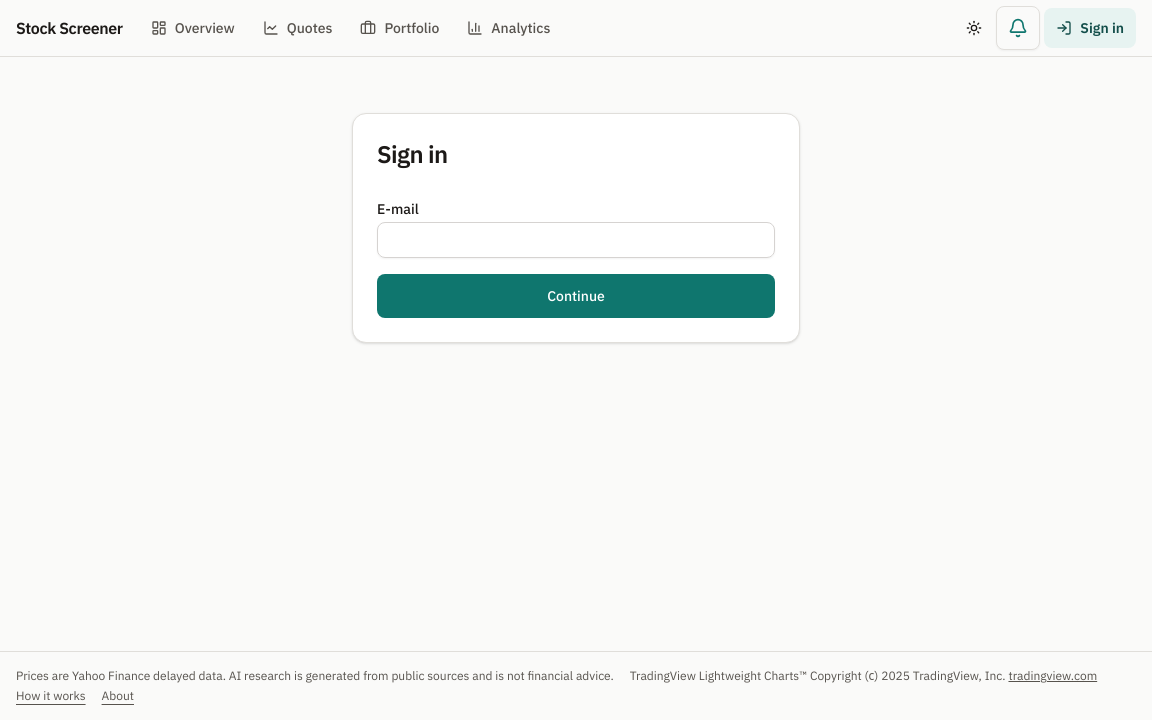
Test: sign-in, step 1 › shows the failure of the check and stays on step 1
In the field labelled "E-mail": (576, 240) [377,222,775,258], type "friend@example.com"
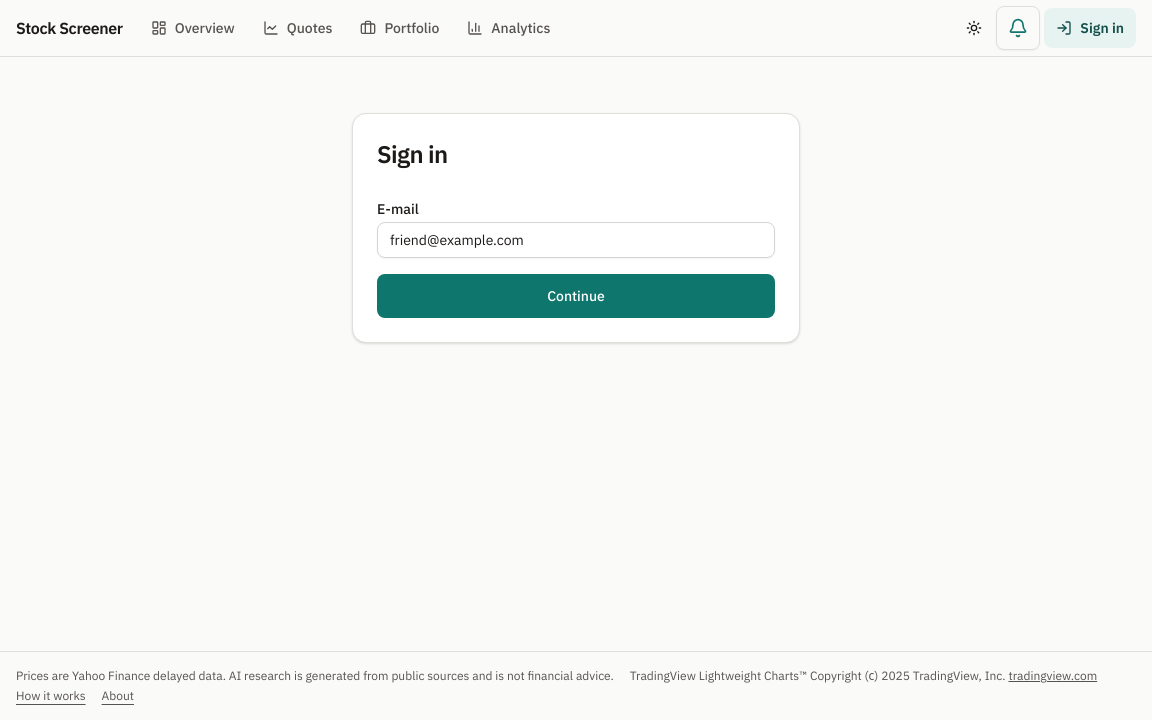
Submit the form "Continue", box [377,202,775,318]
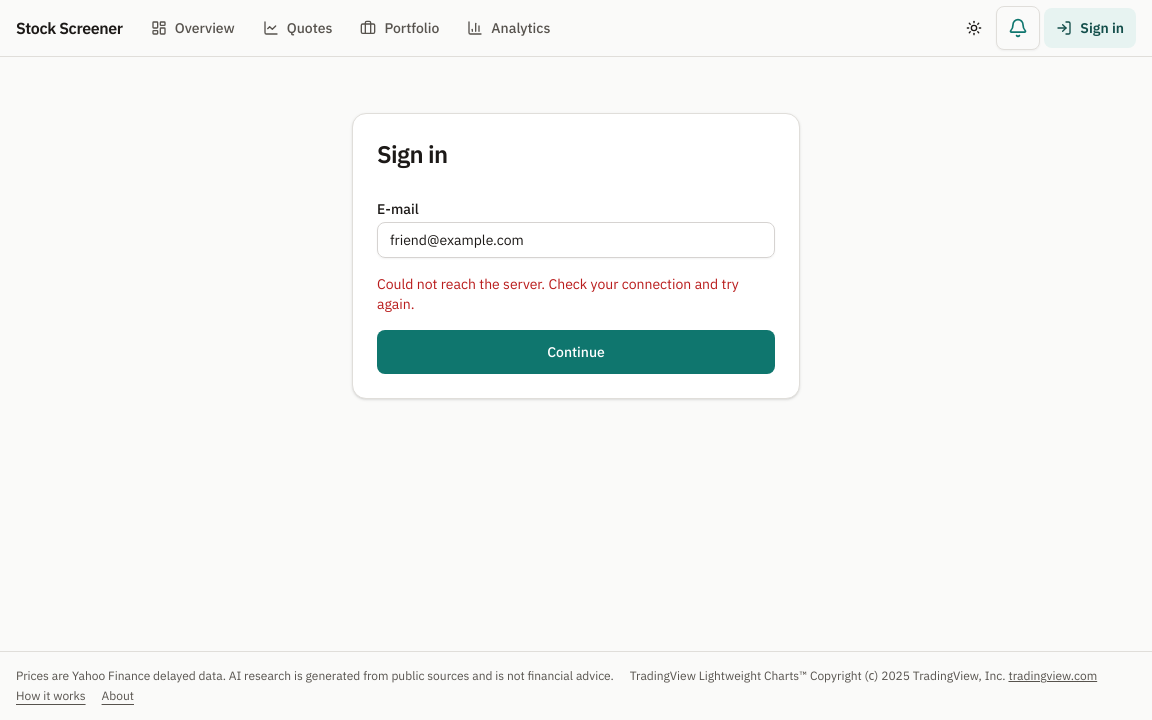
expect the message shows "Could not reach the server": met, box [377,275,739,313]
